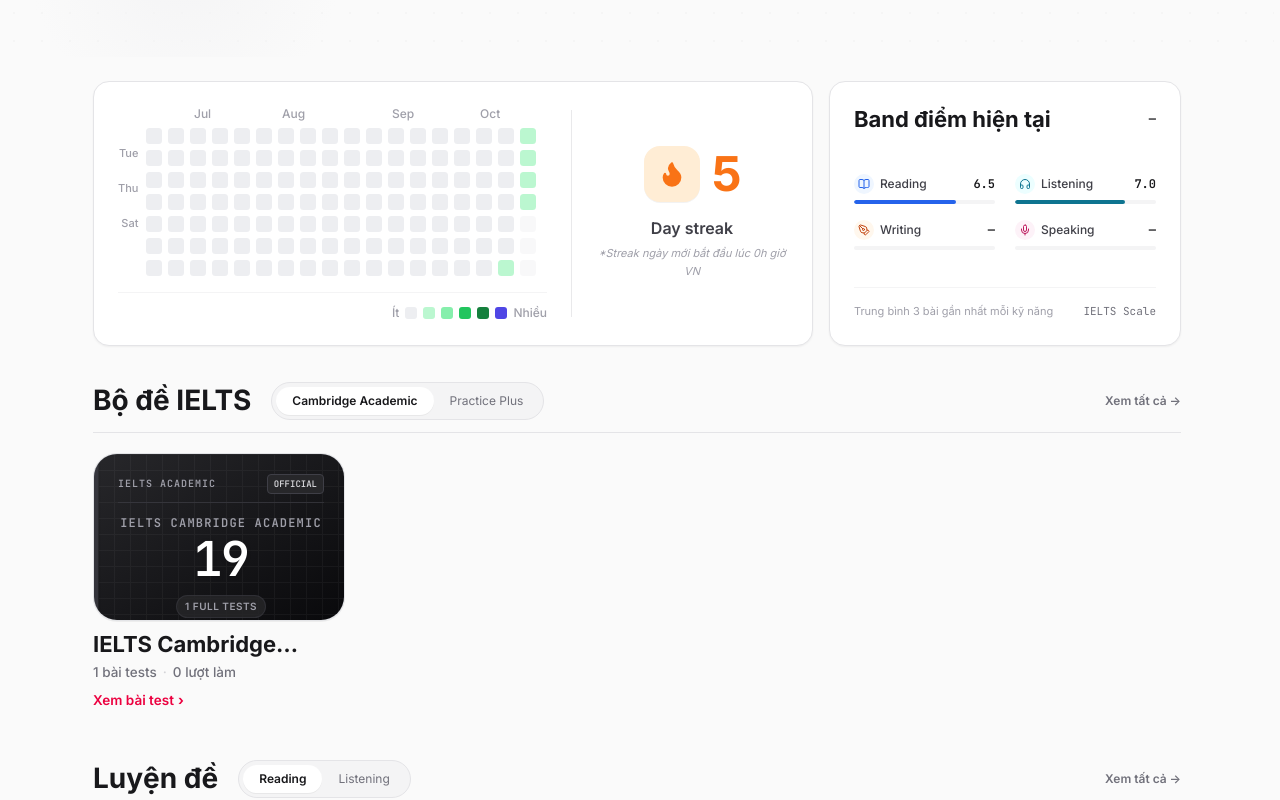
Test: Home Page Standardization › separates Cambridge Academic and Practice Plus books via tab switcher
(page scrolled)
Expected: the heading "Bộ đề IELTS" is shown, [93,384,251,417]
Expected: the heading "IELTS Cambridge Academic 19" is shown, [93,631,276,683]
# Kiểm tra nút Practice Plus tab tồn tại
Step 1. Click the button "Practice Plus" → (486, 401), box [434,387,539,415]
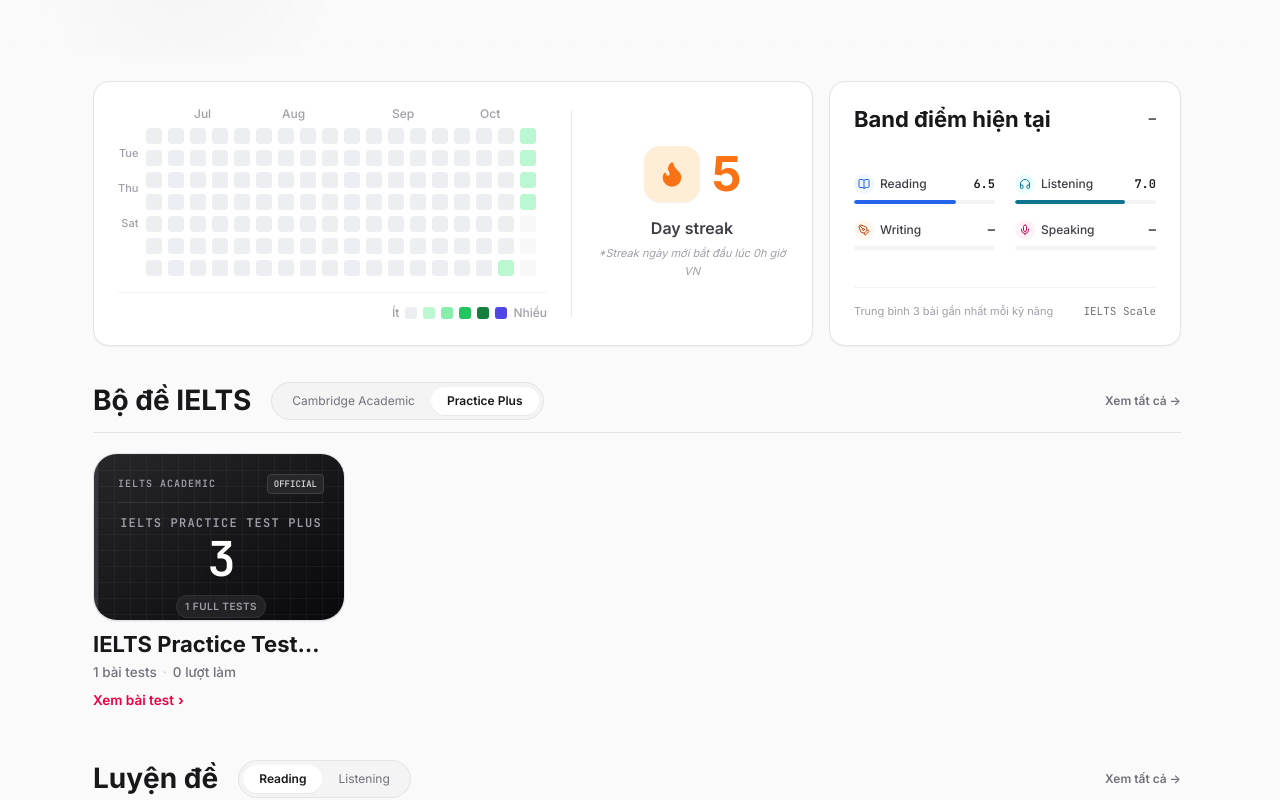
Expected: the heading "IELTS Practice Test Plus 3" is shown, [93,631,298,683]
